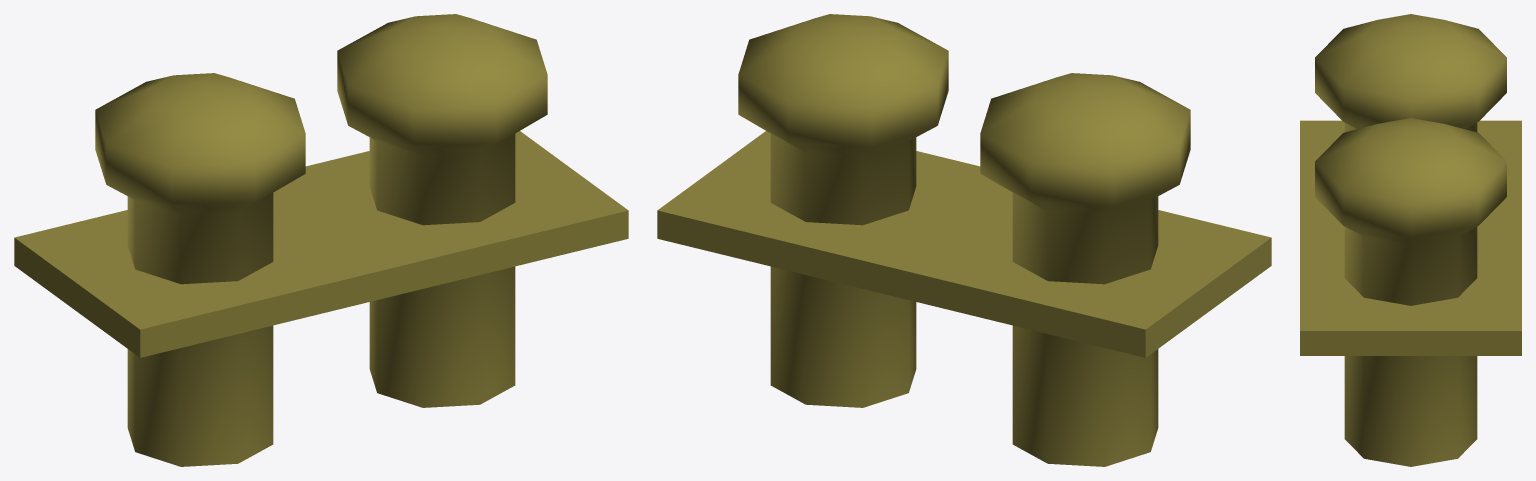
Rendered from Pollar.fbx.
The picture shows the model from 3 angles, left to right: view 1: azimuth 30°, elevation 25°; view 2: azimuth 150°, elevation 25°; view 3: azimuth 270°, elevation 25°; orthographic projection. The views are drawn at different scales.
Parts seen in each view (by area): view 1: Poller; view 2: Poller; view 3: Poller.
Part boxes in pixels (x1,y1,x2,y2): Poller: [14, 14, 628, 466]; Poller: [657, 14, 1271, 466]; Poller: [1300, 14, 1521, 466].
Size of the model in its own units: 38.37 by 26.33 by 17.12.
